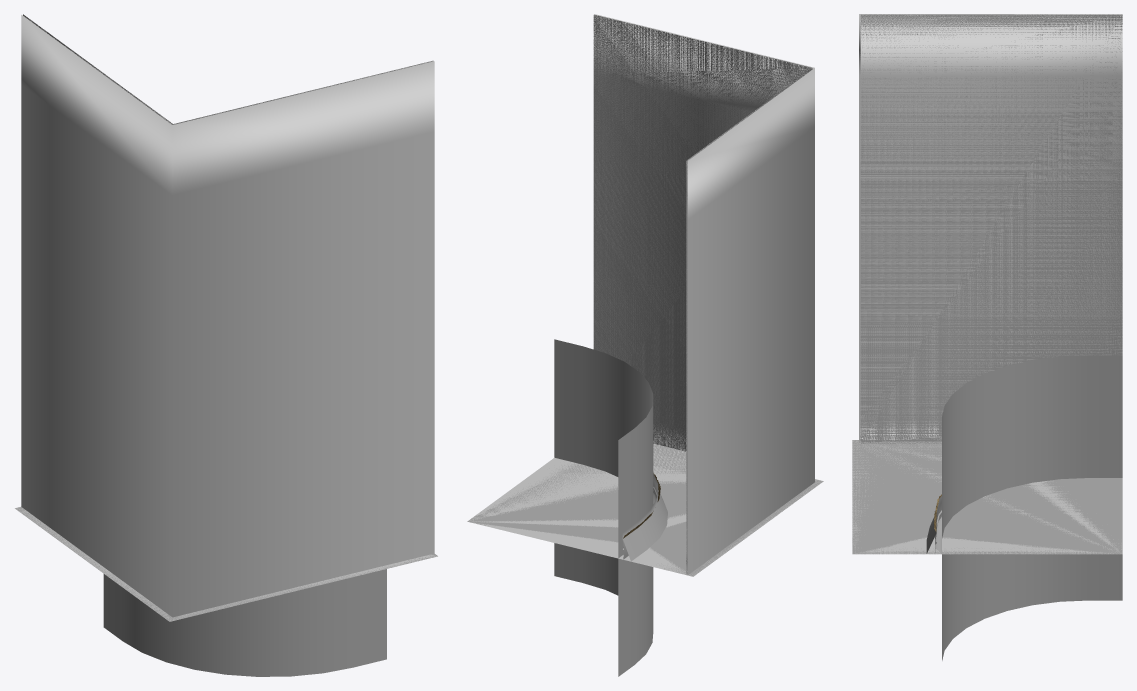
File: roomcornerA1.fbx
The picture shows the model from 3 angles, left to right: view 1: azimuth 30°, elevation 25°; view 2: azimuth 150°, elevation 25°; view 3: azimuth 270°, elevation 25°; orthographic projection. The views are drawn at different scales.
Parts seen in each view (by area): view 1: mdl_LOD0, mdl2_LOD0, col_w, col_o; view 2: mdl_LOD0, col_o, col_w, mdl2_LOD0; view 3: col_o, mdl_LOD0, col_w, mdl2_LOD0.
Part boxes in pixels (box(x1,y1,x2,y2)): mdl_LOD0: box(15, 85, 436, 621); mdl2_LOD0: box(21, 15, 434, 195); col_w: box(103, 569, 386, 676); col_o: box(15, 14, 437, 621); mdl_LOD0: box(468, 74, 822, 576); col_o: box(467, 15, 823, 576); col_w: box(554, 339, 653, 676); mdl2_LOD0: box(593, 14, 814, 538); col_o: box(852, 14, 1122, 554); mdl_LOD0: box(852, 75, 1122, 554); col_w: box(942, 355, 1122, 660); mdl2_LOD0: box(859, 14, 1122, 531).
Size of what is drawn, in the model's own units: 1600 by 3600 by 1600.
